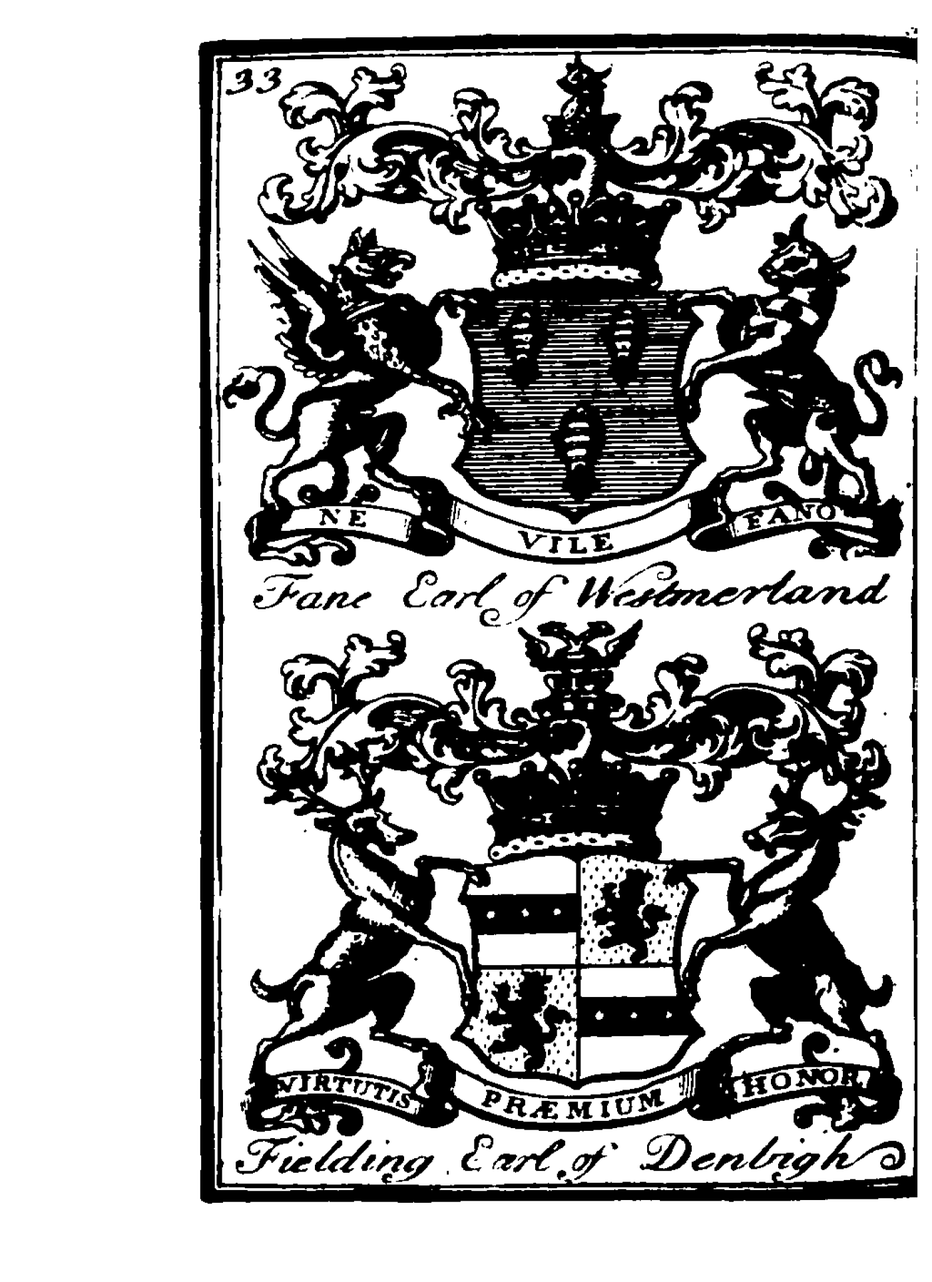coat_of_arms: (226, 617, 921, 1172), (228, 60, 905, 617)
